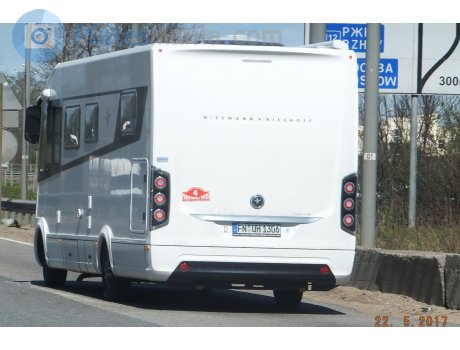License Plates: (234, 219, 281, 232)
